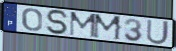3: (122, 17, 144, 42)
M: (92, 13, 124, 42), (68, 11, 97, 39)
O: (21, 8, 44, 32)
S: (45, 9, 71, 36)
U: (146, 19, 171, 46)
